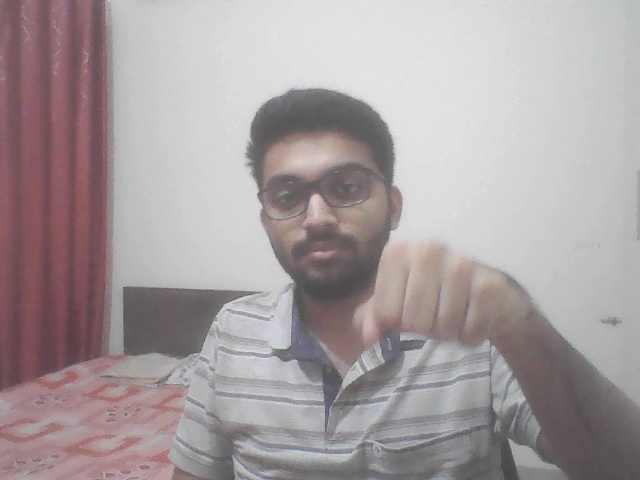yes: (349, 224, 550, 384)
